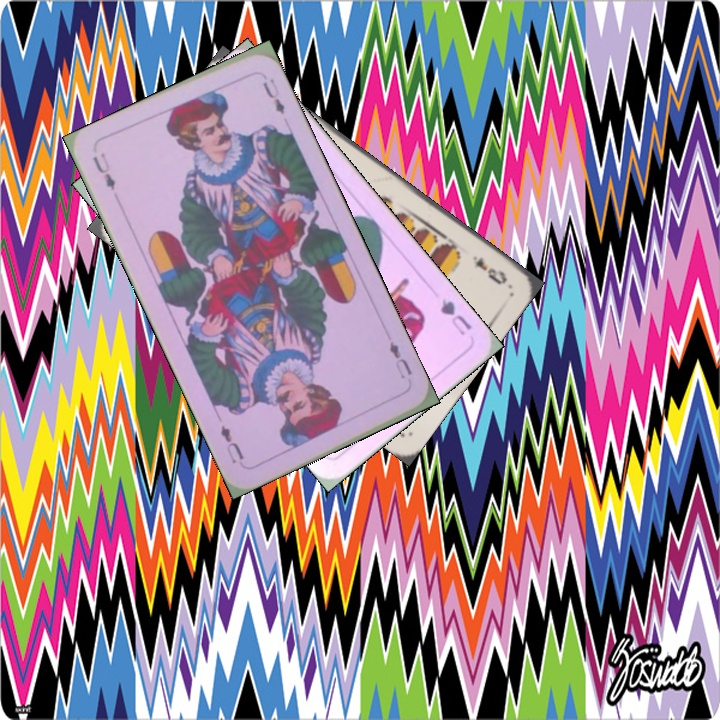E9: (468, 251, 510, 287)
EU: (385, 337, 415, 382), (88, 148, 118, 193)
GU: (436, 294, 475, 338)
